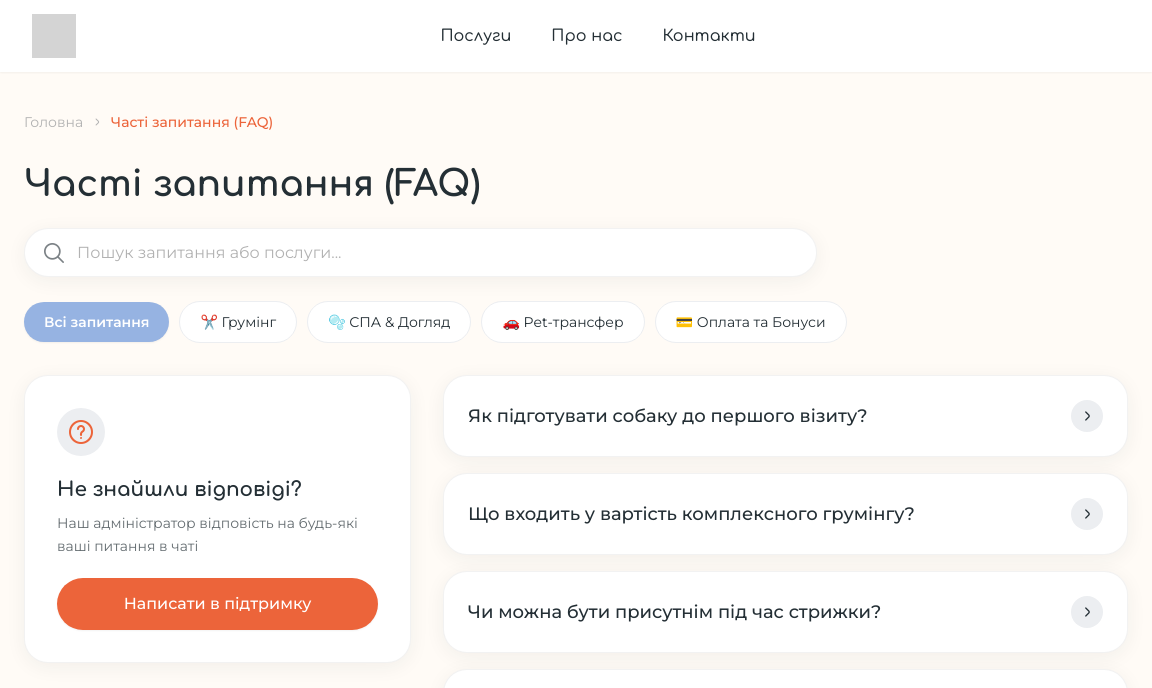
Test: FaqPage › toggles accordion items expansion and accessibility attributes
Expected: the text "Для першого візиту рекомендуємо вигуляти" is not shown
Click the button "Як підготувати собаку до першого візиту?". click: (786, 416)
box: top-left (468, 400), bottom-right (1103, 432)
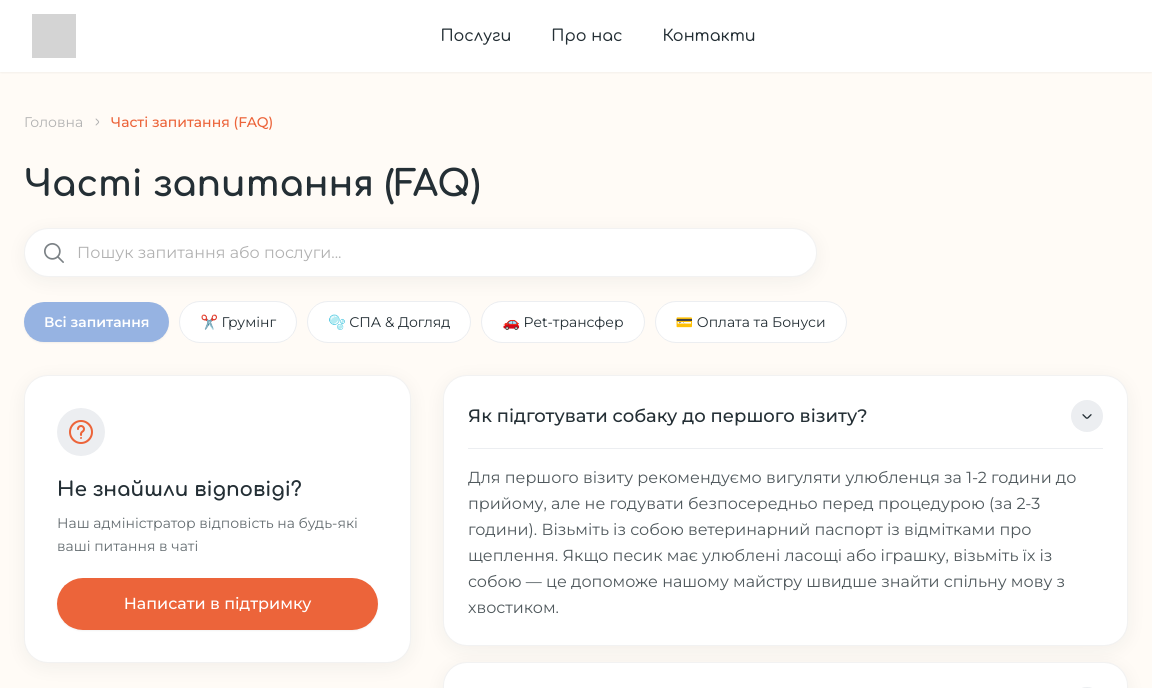
Expected: the button "Як підготувати собаку до першого візиту?" is expanded
Expected: the text "Для першого візиту рекомендуємо вигуляти" is shown, top-left (468, 468), bottom-right (1076, 617)
Click the button "Як підготувати собаку до першого візиту?". click: (786, 416)
box: top-left (468, 400), bottom-right (1103, 432)
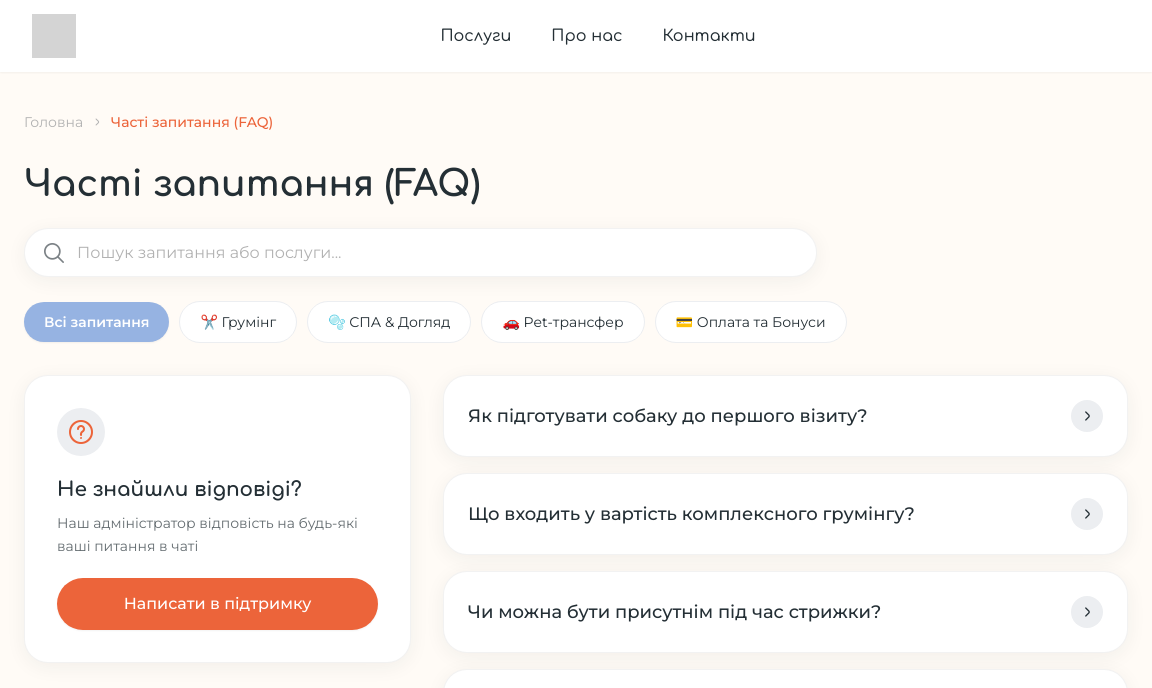
Expected: the button "Як підготувати собаку до першого візиту?" is collapsed, top-left (468, 400), bottom-right (1103, 432)
Expected: the text "Для першого візиту рекомендуємо вигуляти" is gone
